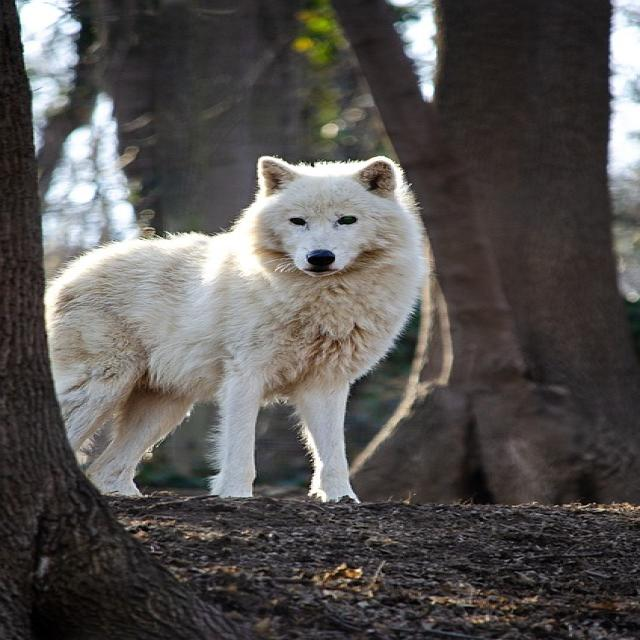Carnivorous: (45, 157, 433, 504)
